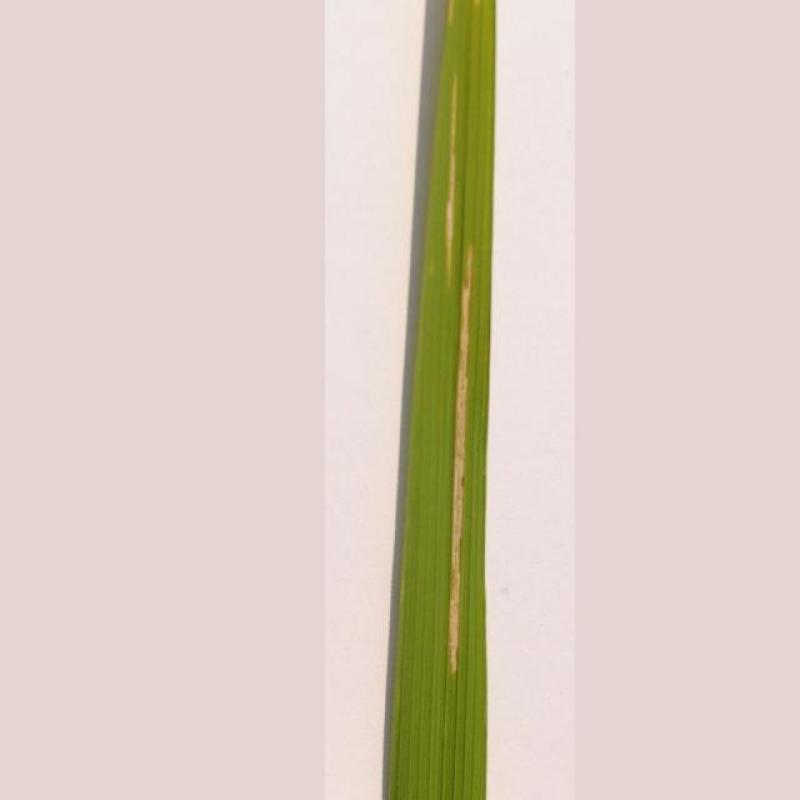Bacterial_Leaf_Blight: (410, 129, 496, 735)
